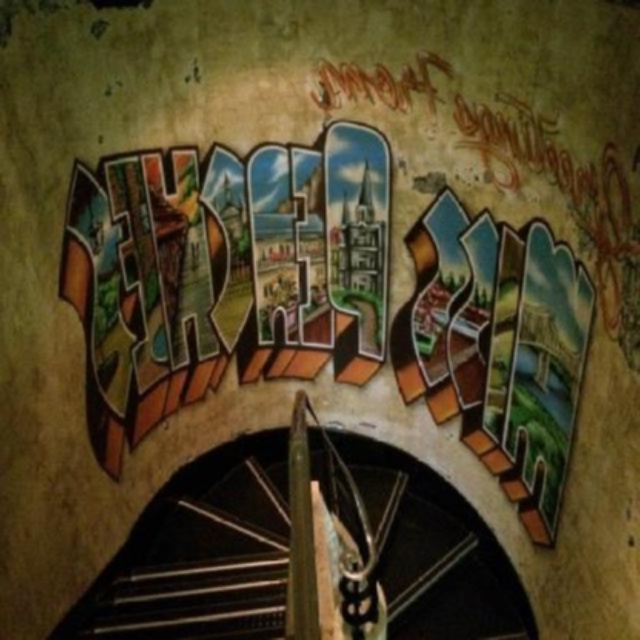stair: (47, 427, 539, 640)
